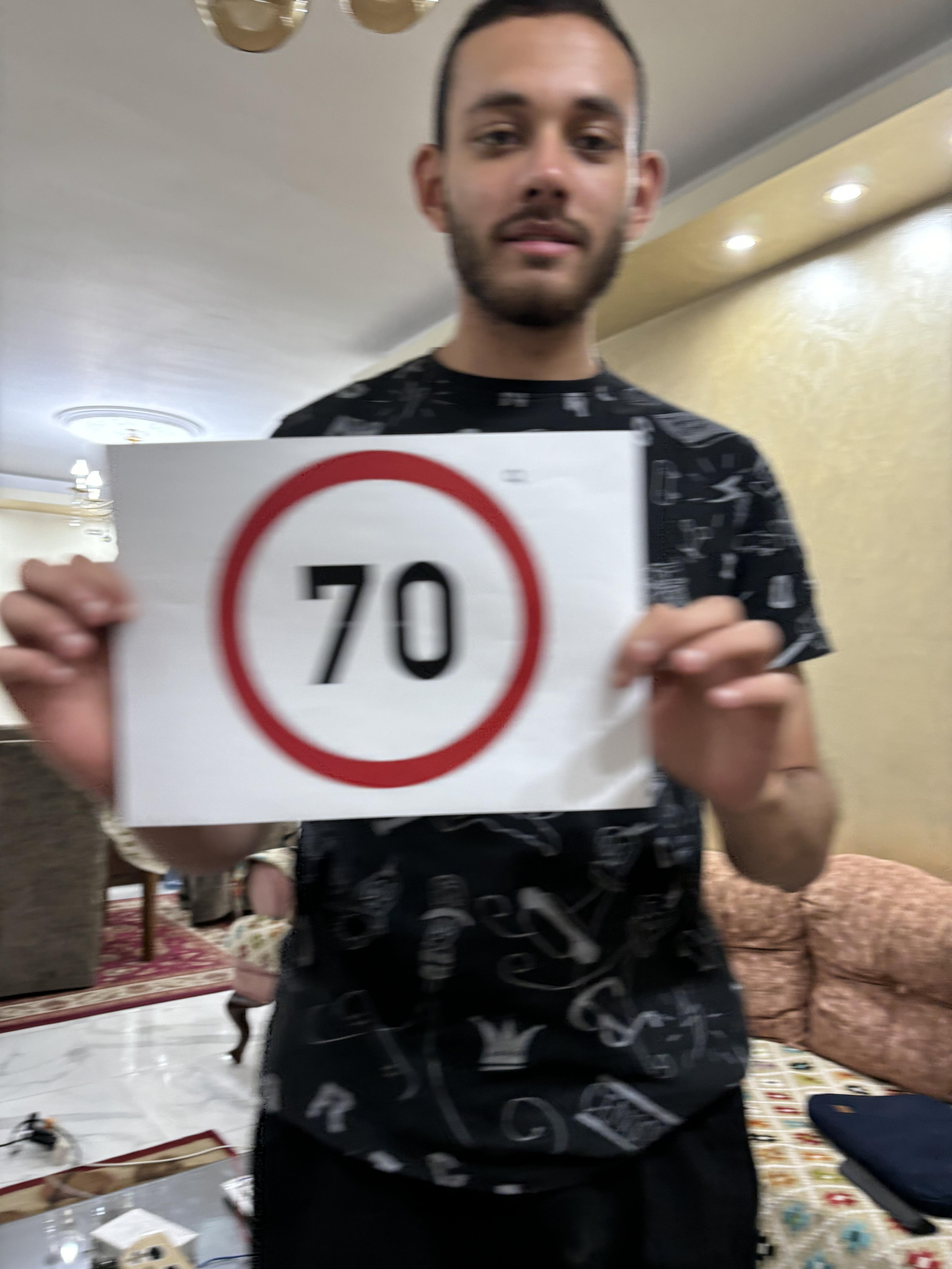70-Speed: (214, 447, 558, 789)
